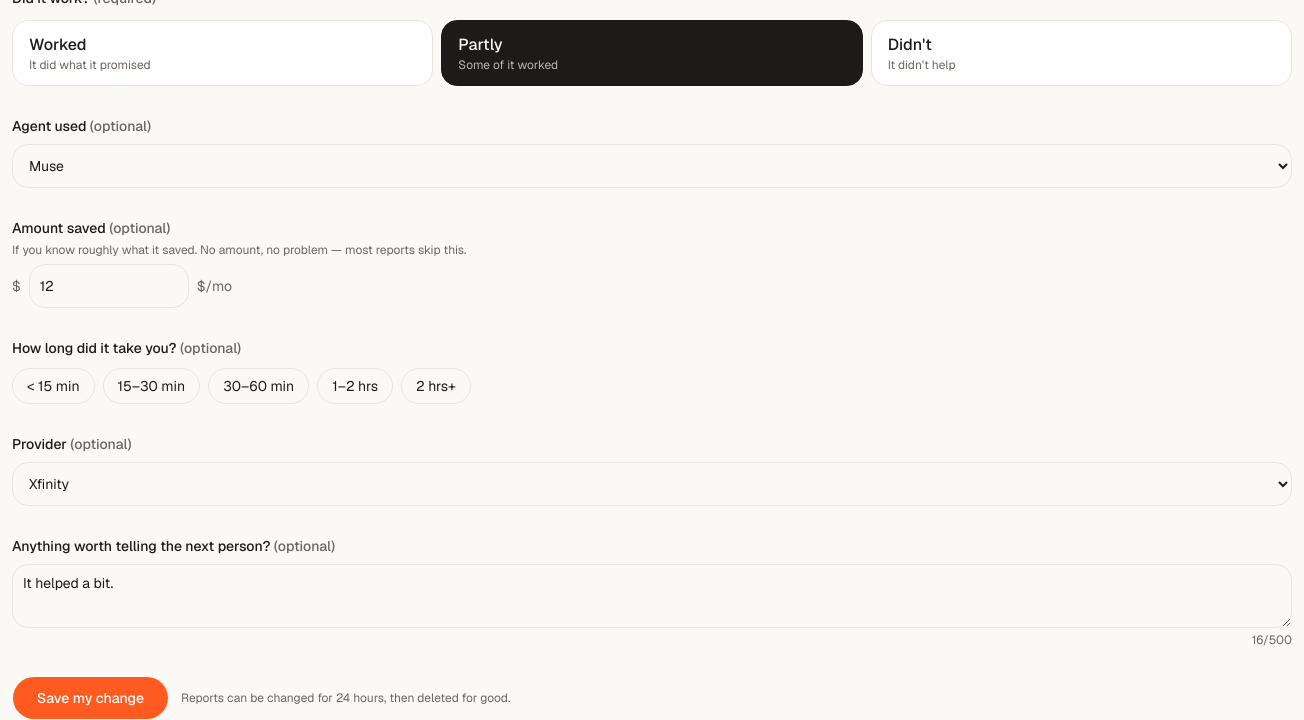
Test case: ReportForm editing › confirms rather than showing the share screen
The width and height of the screenshot is (1304, 720).
(page scrolled)
What coordinates should you click on to do the following:
click the button with test id "report-submit"
I would click on:
 (90, 698)
Its box is [12,676,169,719].
(page scrolled)
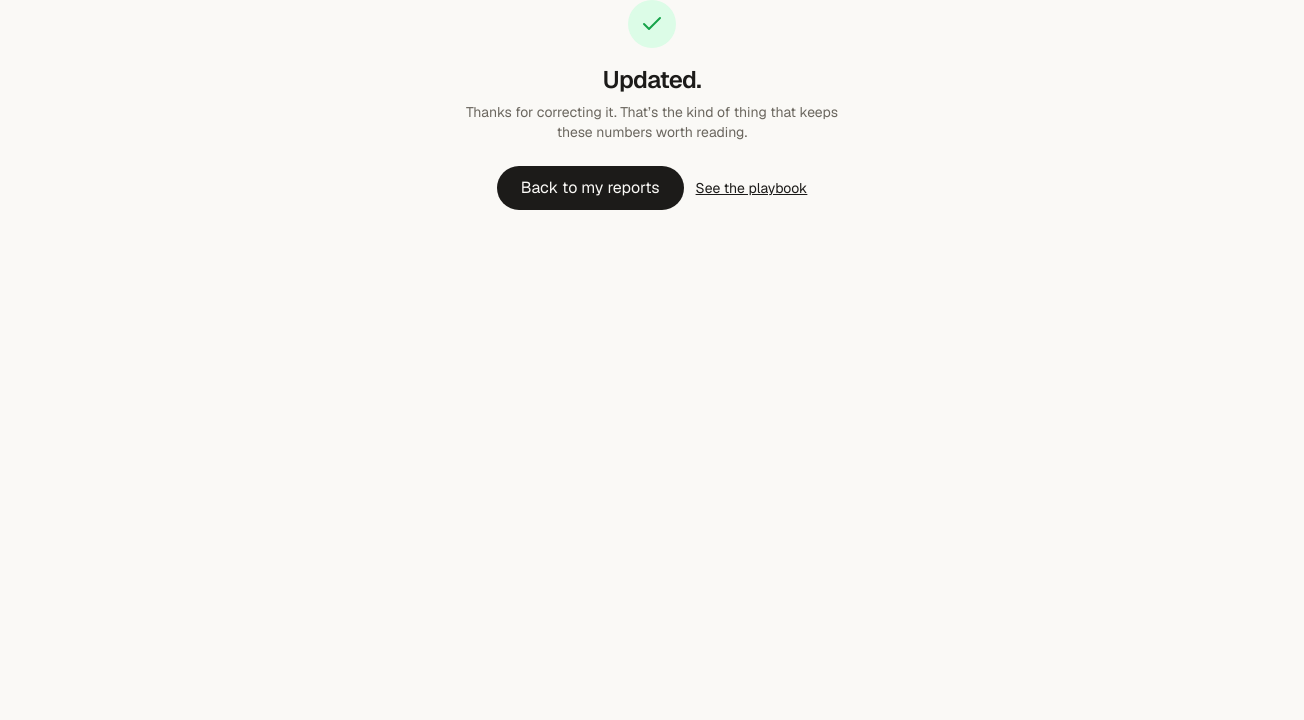
Now the element with test id "report-edited" is shown, box [466,0,838,210]
